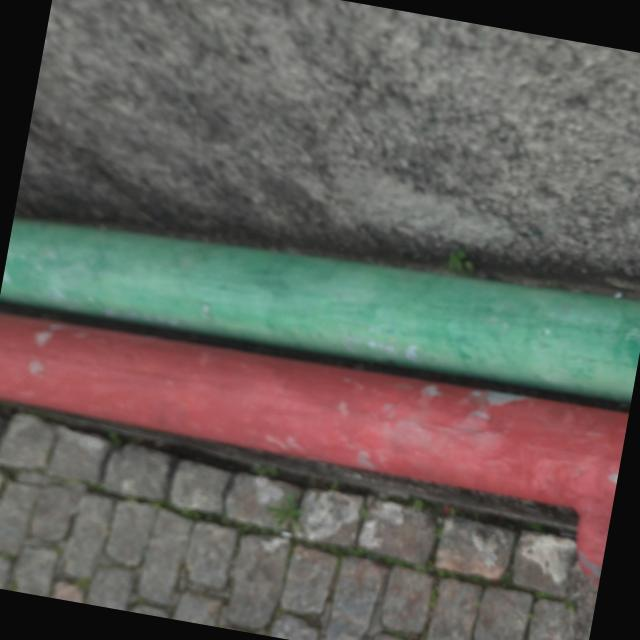gas: (0, 184, 640, 411), (0, 307, 627, 524)
